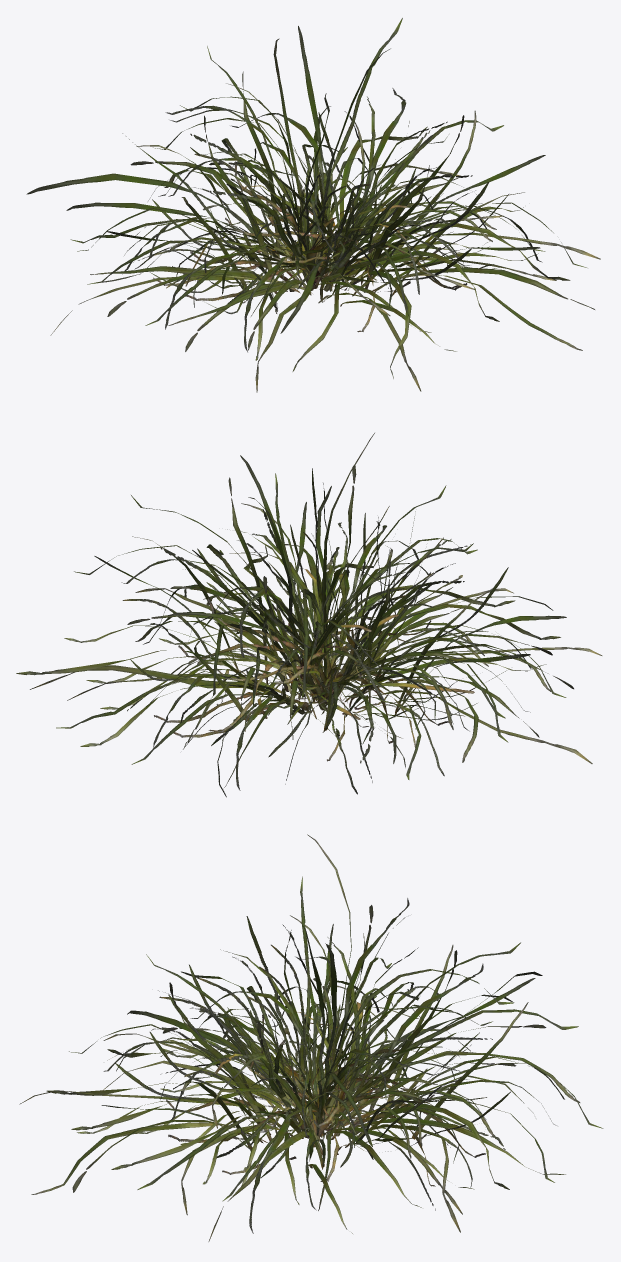
File: grass_medium_01_large_b.gltf
3 renders of one model, top to bottom at view 1: azimuth 30°, elevation 25°; view 2: azimuth 150°, elevation 25°; view 3: azimuth 270°, elevation 25°, orthographic. The views are drawn at different scales.
Parts seen in each view (by area): view 1: grass_medium_01_large_b_LOD0; view 2: grass_medium_01_large_b_LOD0; view 3: grass_medium_01_large_b_LOD0.
Part boxes in pixels (x1=…): grass_medium_01_large_b_LOD0: x1=26, y1=18, x2=600, y2=392; grass_medium_01_large_b_LOD0: x1=16, y1=433, x2=602, y2=797; grass_medium_01_large_b_LOD0: x1=19, y1=834, x2=603, y2=1241.
Size of the model in its own units: 0.2841 by 0.1693 by 0.2757.
Materials: 1 (1 with a texture image).
